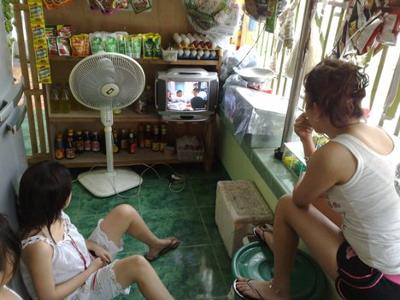person: (238, 57, 400, 300)
